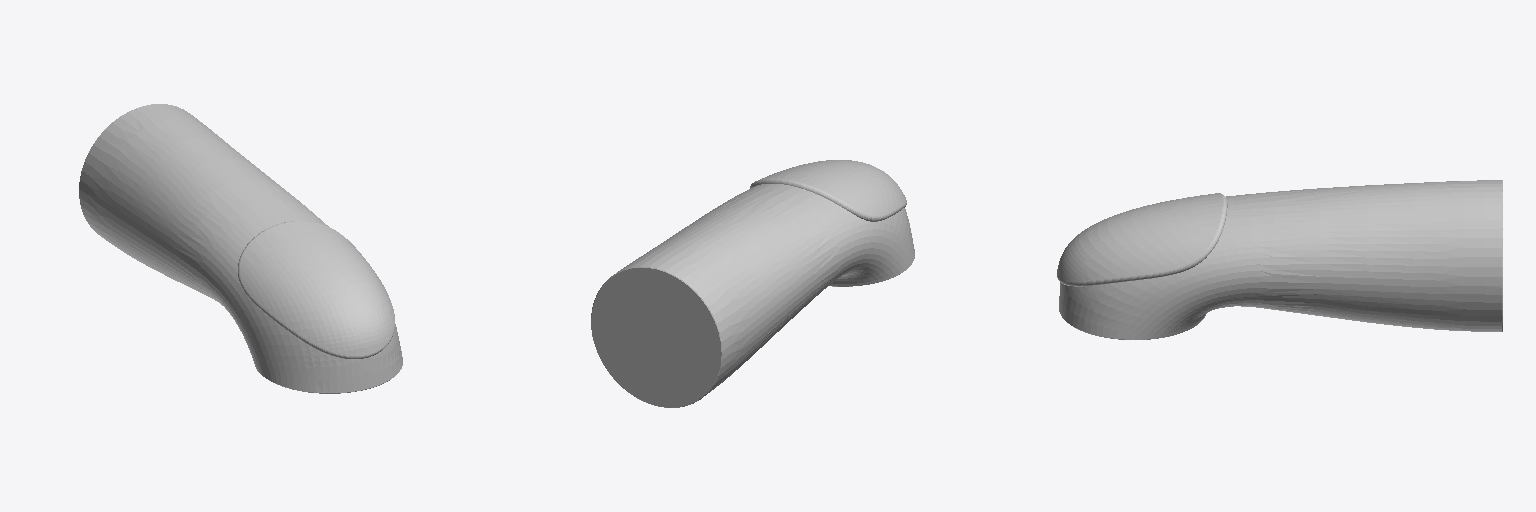
File: right_l2_visuals.obj
3 renders of one model, left to right at view 1: azimuth 30°, elevation 25°; view 2: azimuth 150°, elevation 25°; view 3: azimuth 270°, elevation 25°, orthographic.
Size of the model in its own units: 0.1065 by 0.1065 by 0.3125.